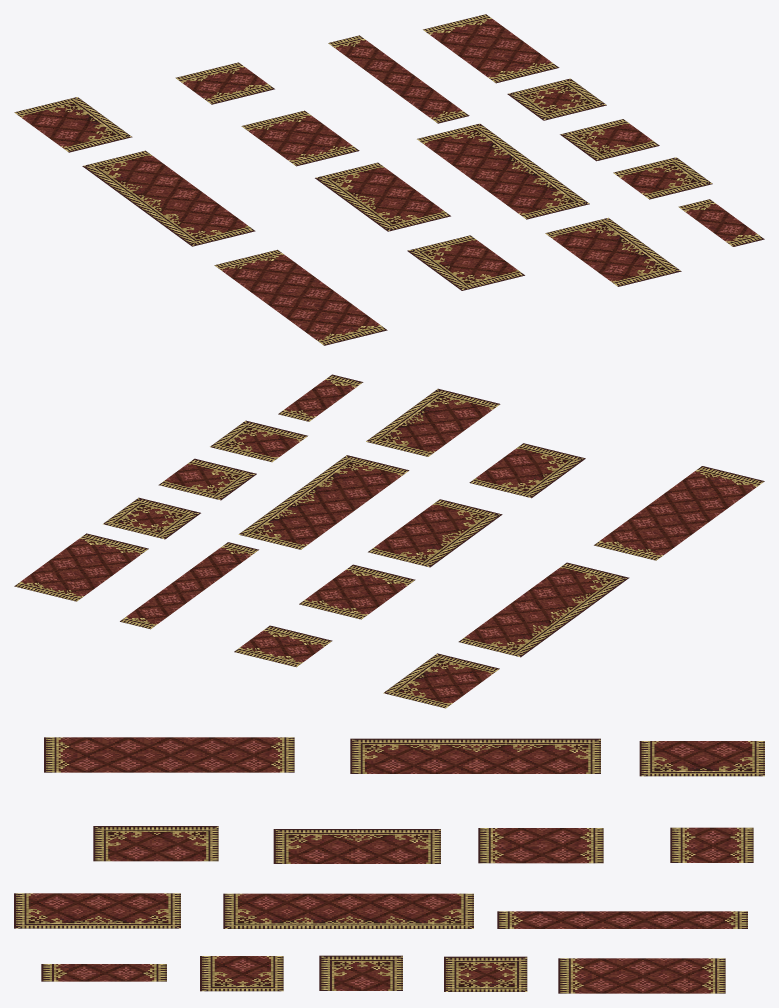
File: EnvMdrMD_Mansion_GrdCpt_200W200D.FBX
3 renders of one model, top to bottom at view 1: azimuth 30°, elevation 25°; view 2: azimuth 150°, elevation 25°; view 3: azimuth 270°, elevation 25°, orthographic. The views are drawn at different scales.
Visible parts, largest first — view 1: EnvMdrMD_Mansion_GrdCpt_End_600W200D, EnvMdrMD_Mansion_GrdCpt_Start_600W200D, EnvMdrMD_Mansion_GrdCpt_Loop_600W200D, EnvMdrMD_Mansion_GrdCpt_End_400W200D, EnvMdrMD_Mansion_GrdCpt_Start_400W200D, EnvMdrMD_Mansion_GrdCpt_Loop_400W200D, EnvMdrMD_Mansion_GrdCpt_Loop_600W100D, EnvMdrMD_Mansion_GrdCpt_Loop_300W200D, EnvMdrMD_Mansion_GrdCpt_Start_300W200D, EnvMdrMD_Mansion_GrdCpt_End_300W200D, EnvMdrMD_Mansion_GrdCpt_200W200D, EnvMdrMD_Mansion_GrdCpt_End_200W200D (+3 smaller); view 2: EnvMdrMD_Mansion_GrdCpt_End_600W200D, EnvMdrMD_Mansion_GrdCpt_Start_600W200D, EnvMdrMD_Mansion_GrdCpt_Loop_600W200D, EnvMdrMD_Mansion_GrdCpt_Loop_400W200D, EnvMdrMD_Mansion_GrdCpt_End_400W200D, EnvMdrMD_Mansion_GrdCpt_Start_400W200D, EnvMdrMD_Mansion_GrdCpt_Loop_600W100D, EnvMdrMD_Mansion_GrdCpt_Loop_300W200D, EnvMdrMD_Mansion_GrdCpt_End_300W200D, EnvMdrMD_Mansion_GrdCpt_Start_300W200D, EnvMdrMD_Mansion_GrdCpt_200W200D, EnvMdrMD_Mansion_GrdCpt_End_200W200D (+3 smaller); view 3: EnvMdrMD_Mansion_GrdCpt_End_600W200D, EnvMdrMD_Mansion_GrdCpt_Loop_600W200D, EnvMdrMD_Mansion_GrdCpt_Start_600W200D, EnvMdrMD_Mansion_GrdCpt_Loop_400W200D, EnvMdrMD_Mansion_GrdCpt_Start_400W200D, EnvMdrMD_Mansion_GrdCpt_End_400W200D, EnvMdrMD_Mansion_GrdCpt_End_300W200D, EnvMdrMD_Mansion_GrdCpt_Loop_300W200D, EnvMdrMD_Mansion_GrdCpt_Start_300W200D, EnvMdrMD_Mansion_GrdCpt_Loop_600W100D, EnvMdrMD_Mansion_GrdCpt_End_200W200D, EnvMdrMD_Mansion_GrdCpt_Loop_200W200D (+3 smaller).
Boxes of the visible parts, box(x1,y1,x2,y2) form: EnvMdrMD_Mansion_GrdCpt_End_600W200D: box(82, 150, 255, 246); EnvMdrMD_Mansion_GrdCpt_Start_600W200D: box(417, 123, 589, 219); EnvMdrMD_Mansion_GrdCpt_Loop_600W200D: box(214, 249, 387, 345); EnvMdrMD_Mansion_GrdCpt_End_400W200D: box(315, 162, 450, 231); EnvMdrMD_Mansion_GrdCpt_Start_400W200D: box(545, 217, 681, 286); EnvMdrMD_Mansion_GrdCpt_Loop_400W200D: box(423, 14, 559, 83); EnvMdrMD_Mansion_GrdCpt_Loop_600W100D: box(328, 35, 469, 123); EnvMdrMD_Mansion_GrdCpt_Loop_300W200D: box(241, 110, 359, 166); EnvMdrMD_Mansion_GrdCpt_Start_300W200D: box(14, 97, 132, 152); EnvMdrMD_Mansion_GrdCpt_End_300W200D: box(407, 235, 524, 290); EnvMdrMD_Mansion_GrdCpt_200W200D: box(507, 78, 606, 120); EnvMdrMD_Mansion_GrdCpt_End_200W200D: box(560, 119, 659, 161); EnvMdrMD_Mansion_GrdCpt_End_600W200D: box(458, 562, 629, 657); EnvMdrMD_Mansion_GrdCpt_Start_600W200D: box(238, 455, 409, 549); EnvMdrMD_Mansion_GrdCpt_Loop_600W200D: box(594, 466, 764, 560); EnvMdrMD_Mansion_GrdCpt_Loop_400W200D: box(14, 533, 148, 601); EnvMdrMD_Mansion_GrdCpt_End_400W200D: box(368, 499, 502, 567); EnvMdrMD_Mansion_GrdCpt_Start_400W200D: box(366, 388, 500, 456); EnvMdrMD_Mansion_GrdCpt_Loop_600W100D: box(120, 542, 258, 629); EnvMdrMD_Mansion_GrdCpt_Loop_300W200D: box(299, 564, 415, 619); EnvMdrMD_Mansion_GrdCpt_End_300W200D: box(469, 443, 585, 498); EnvMdrMD_Mansion_GrdCpt_Start_300W200D: box(383, 653, 499, 708); EnvMdrMD_Mansion_GrdCpt_200W200D: box(103, 497, 200, 539); EnvMdrMD_Mansion_GrdCpt_End_200W200D: box(158, 458, 256, 500); EnvMdrMD_Mansion_GrdCpt_End_600W200D: box(350, 738, 600, 773); EnvMdrMD_Mansion_GrdCpt_Loop_600W200D: box(44, 737, 294, 772); EnvMdrMD_Mansion_GrdCpt_Start_600W200D: box(223, 893, 473, 928); EnvMdrMD_Mansion_GrdCpt_Loop_400W200D: box(558, 958, 725, 993); EnvMdrMD_Mansion_GrdCpt_Start_400W200D: box(14, 893, 180, 928); EnvMdrMD_Mansion_GrdCpt_End_400W200D: box(273, 829, 440, 863); EnvMdrMD_Mansion_GrdCpt_End_300W200D: box(93, 826, 218, 861); EnvMdrMD_Mansion_GrdCpt_Loop_300W200D: box(478, 828, 603, 863); EnvMdrMD_Mansion_GrdCpt_Start_300W200D: box(639, 741, 764, 776); EnvMdrMD_Mansion_GrdCpt_Loop_600W100D: box(497, 911, 747, 928); EnvMdrMD_Mansion_GrdCpt_End_200W200D: box(319, 955, 402, 990); EnvMdrMD_Mansion_GrdCpt_Loop_200W200D: box(670, 827, 753, 862).
Bounding box in the file's own units: 1451 × 3.49e-05 × 1797.
1 material, 1 textured.
